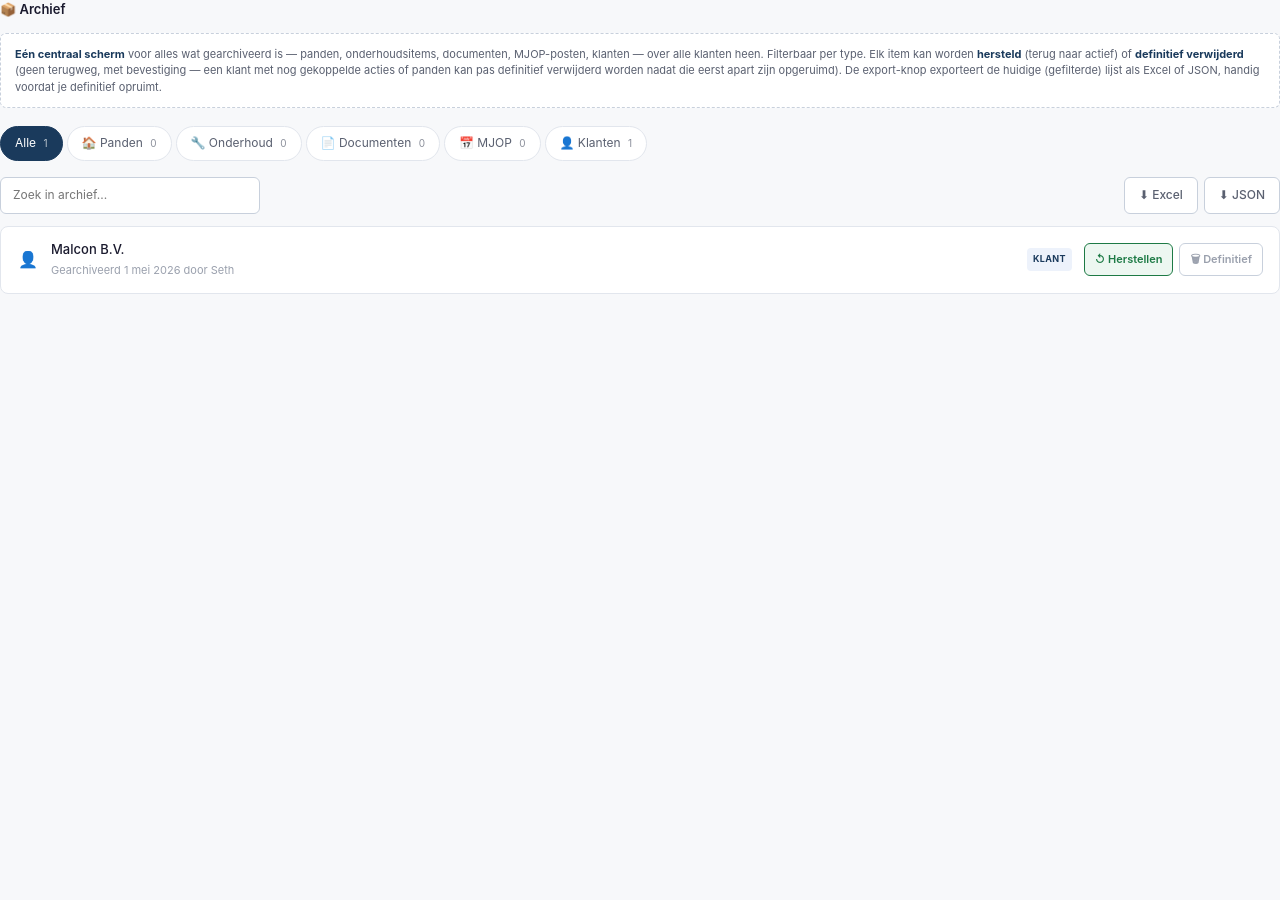
Scenario: ArchiefPage › toont de foutmelding in de modal als een klant nog gekoppelde acties/panden heeft
Click the button "🗑 Definitief" at (1221, 260), box [1180,244,1263,276]
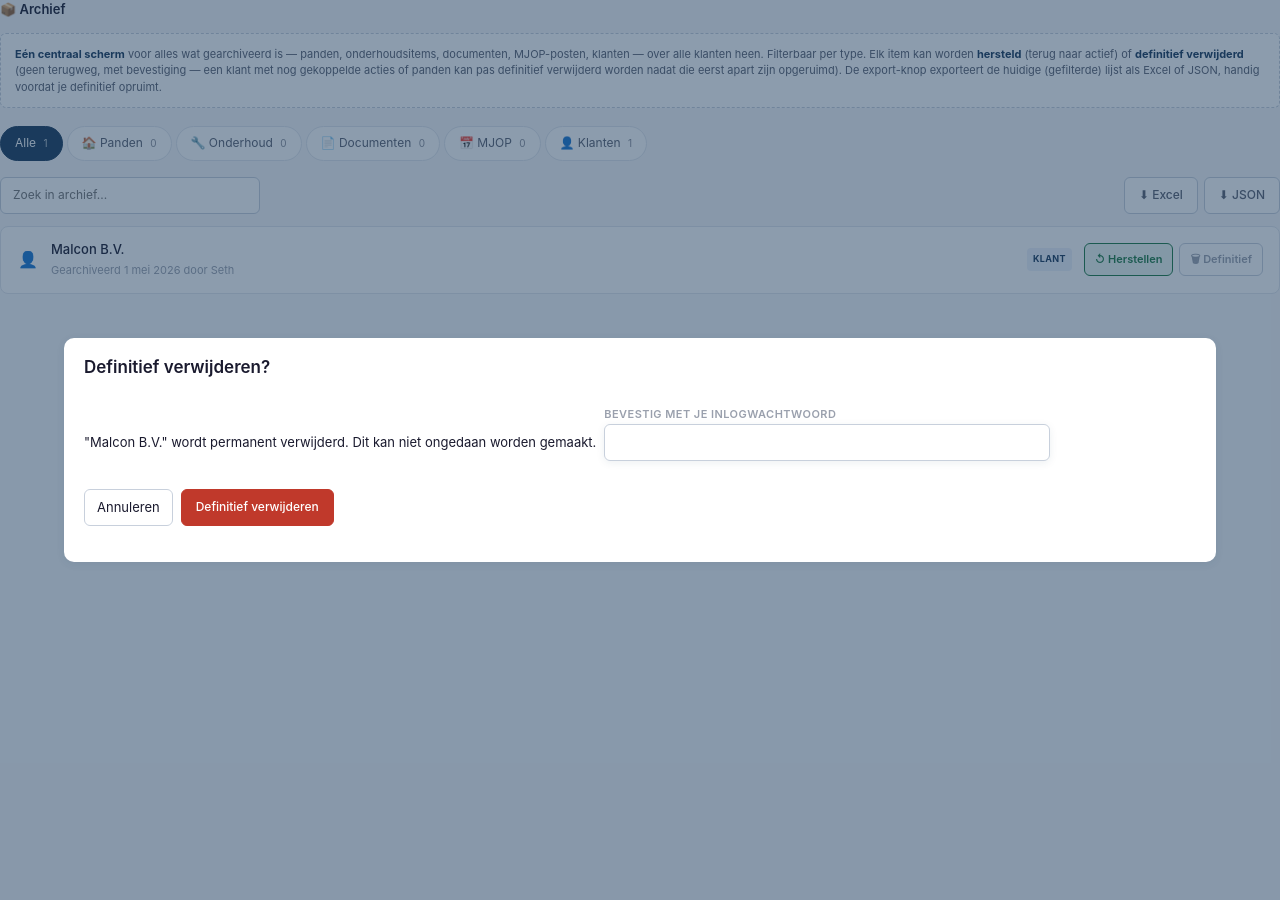
Type "geheim123" into the password field labelled "Bevestig met je inlogwachtwoord" at (827, 442), box [604,424,1050,461]
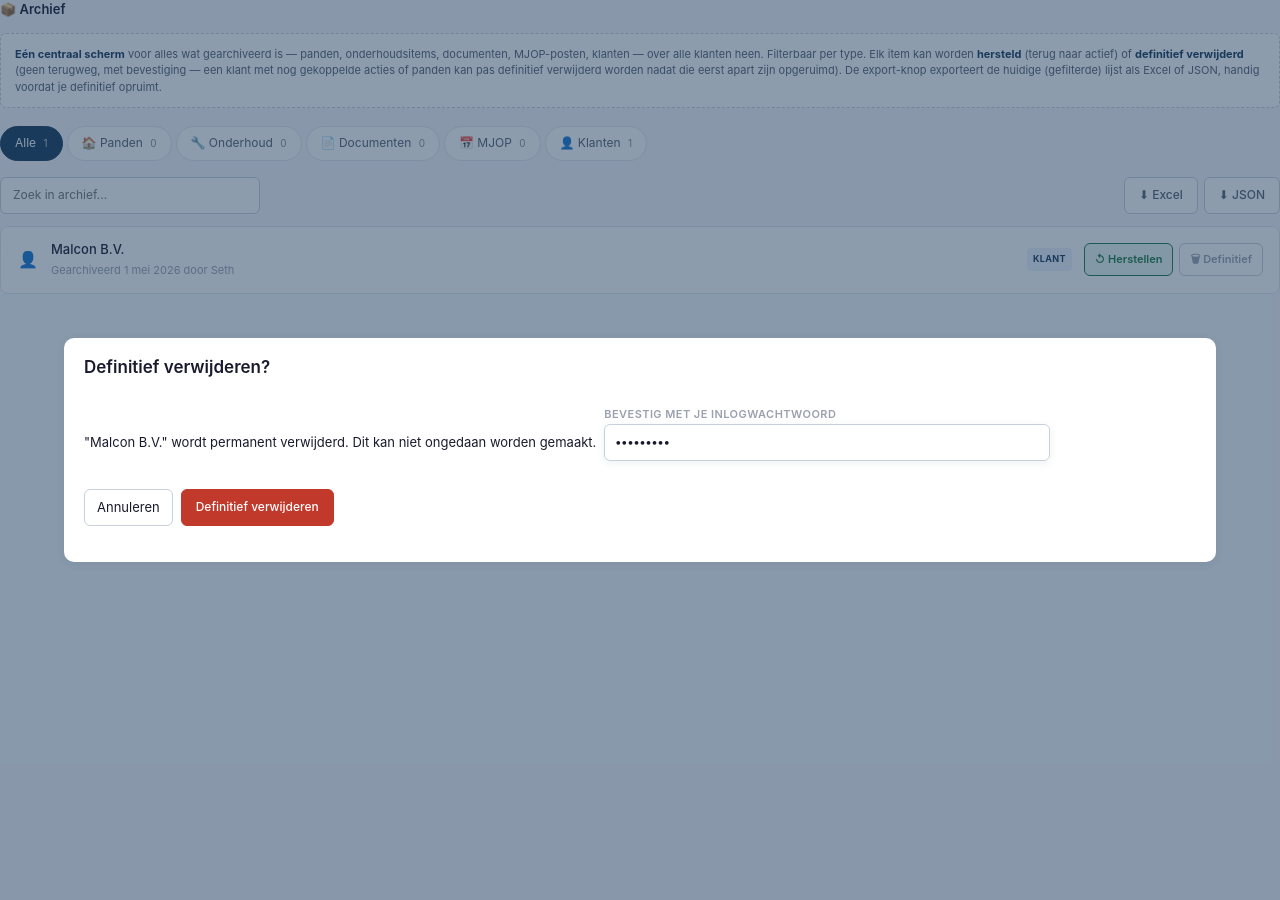
Click the button "Definitief verwijderen" at (257, 507), box [181,489,334,526]
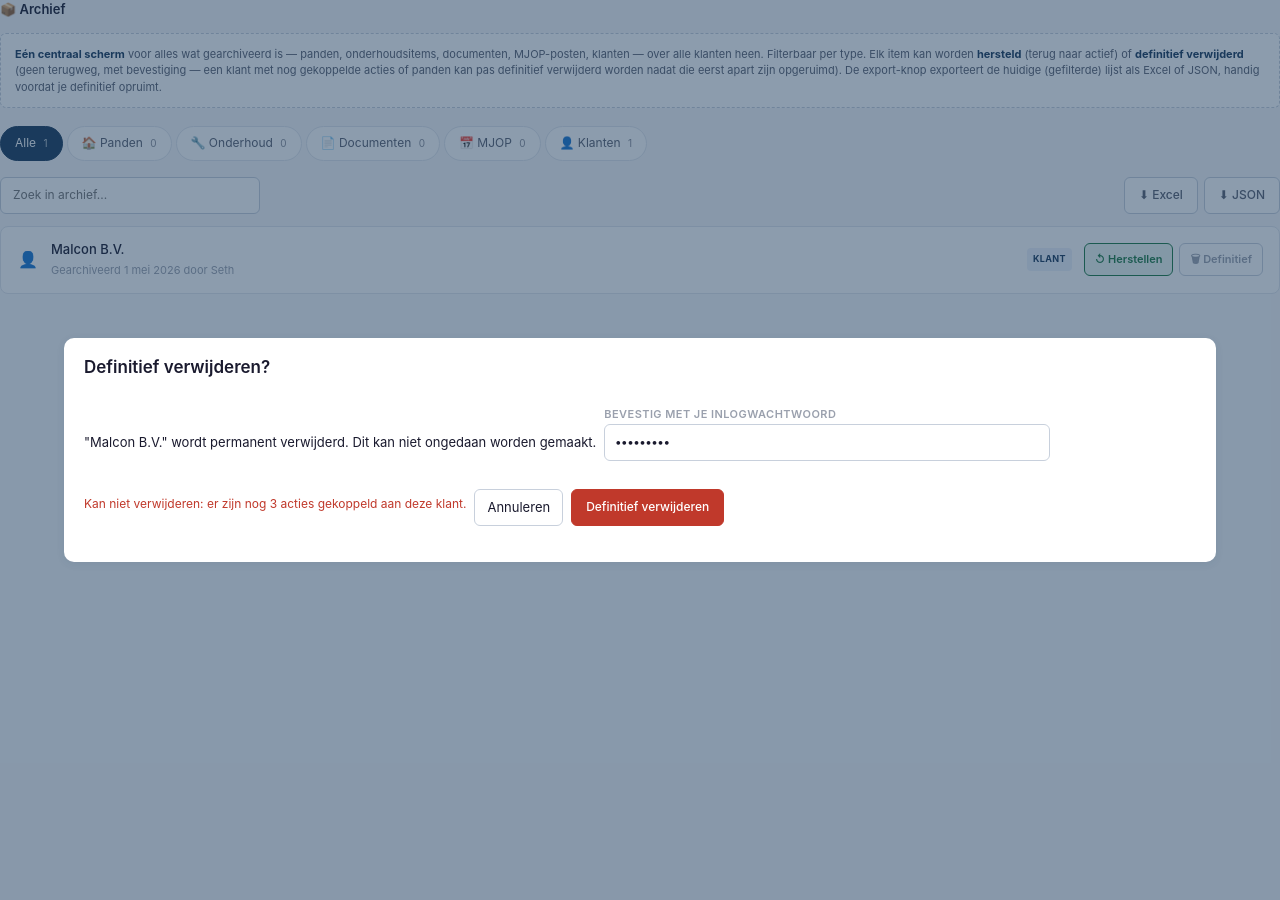
Expected: the heading "Definitief verwijderen?" is shown, [84,357,270,377]
Expected: the text "Kan niet verwijderen: er zijn nog 3 acties gekoppeld aan deze klant." is shown, [84,495,466,514]
